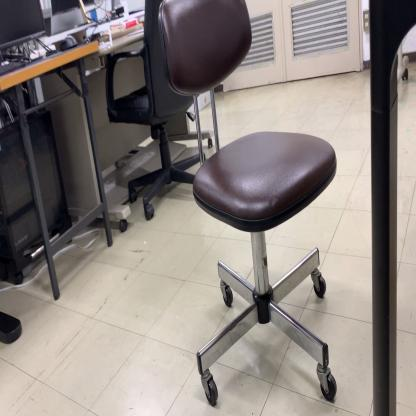chair: (158, 0, 340, 416), (104, 0, 207, 222)
